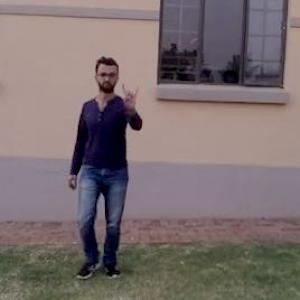takeoff-hand: (114, 74, 144, 115)
